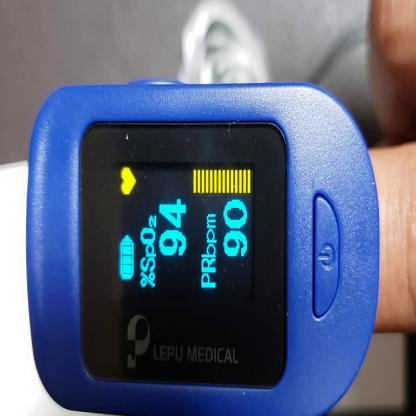Displays: (113, 164, 256, 300)
